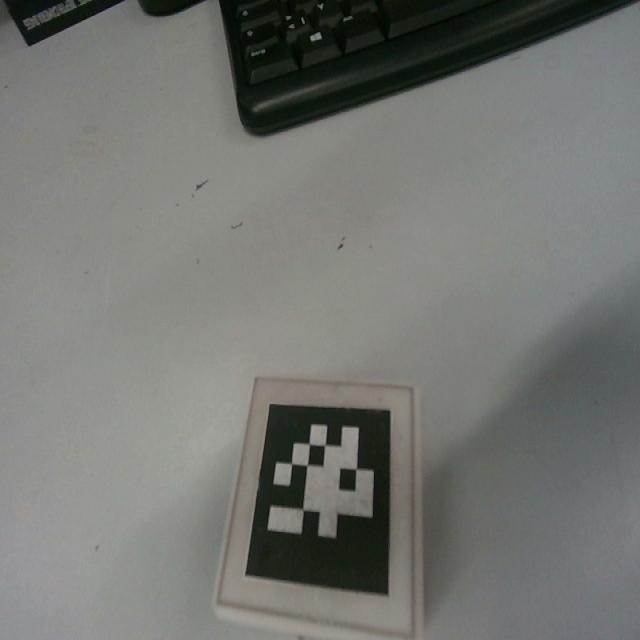Cube: (212, 375, 424, 637)
